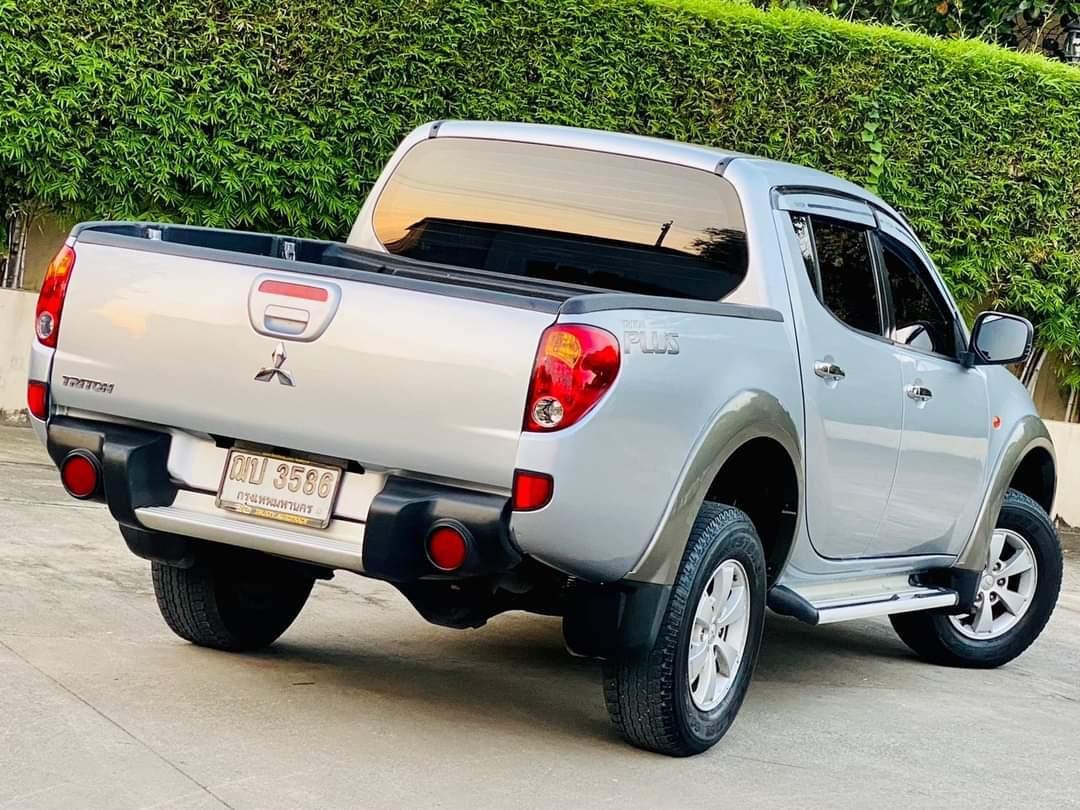license-plate: (215, 440, 350, 538)
